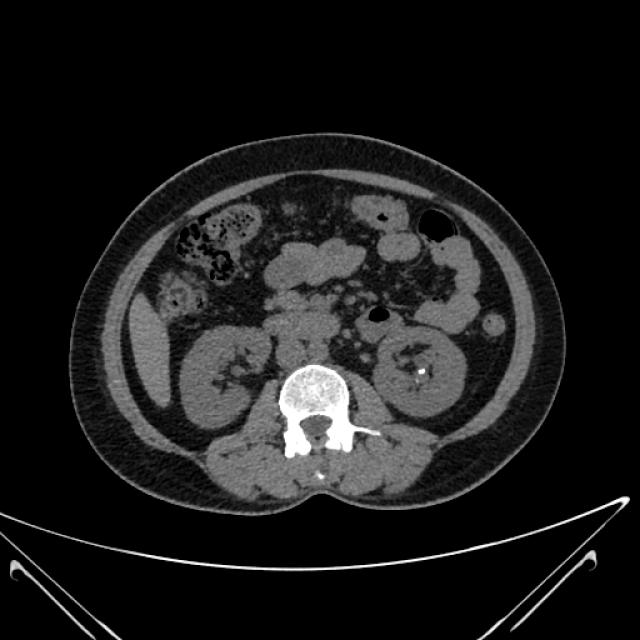kidney: (186, 328, 260, 427), (382, 329, 459, 411)
stone: (418, 368, 426, 374)
